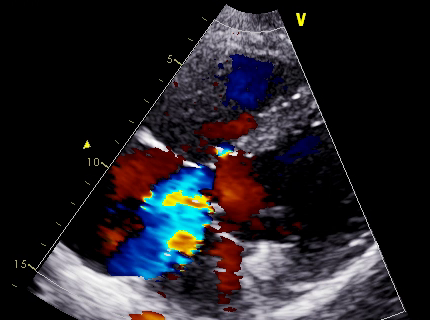TR: (159, 138, 225, 226)
